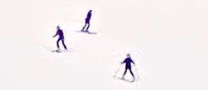skier: (112, 50, 140, 83)
